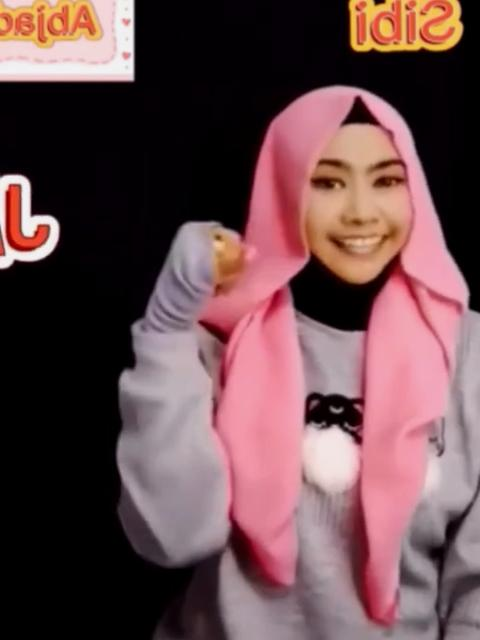J: (157, 222, 257, 308)
